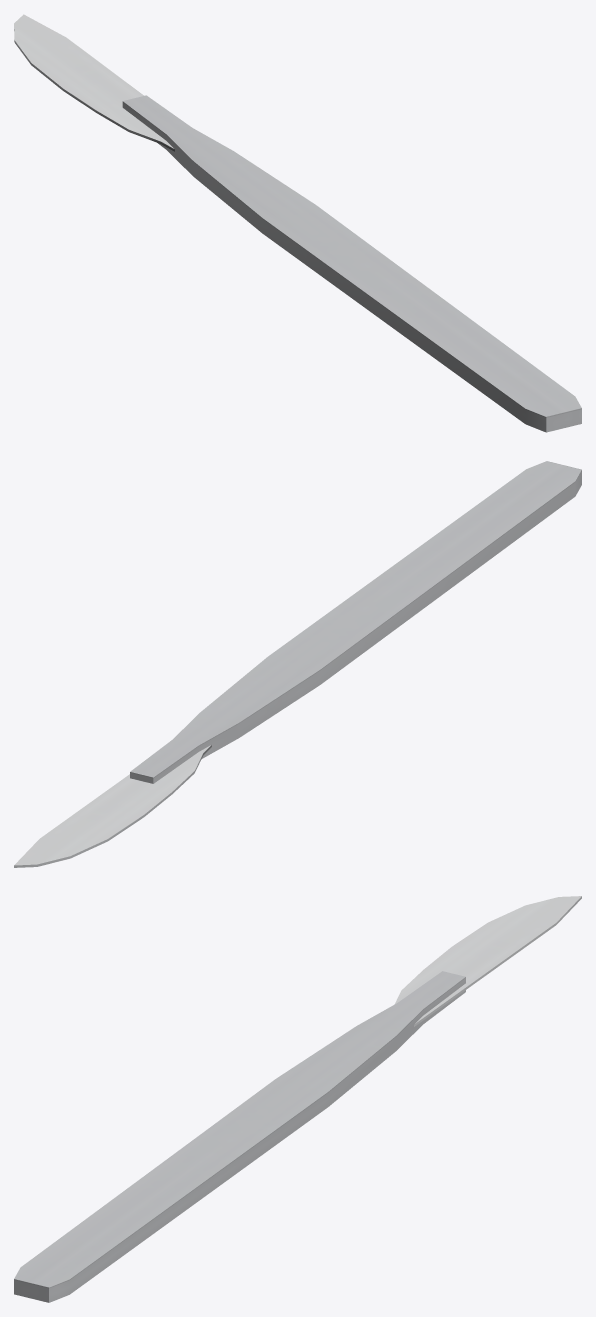
File: scalpel_10.glb
3 views of the same model, one above another, from view 1: azimuth 30°, elevation 25°; view 2: azimuth 150°, elevation 25°; view 3: azimuth 330°, elevation 25° (orthographic).
Parts seen in each view (by area): view 1: s1_scalpel_10; view 2: s1_scalpel_10; view 3: s1_scalpel_10.
Boxes of the visible parts, x1,y1,x2,y2 form: s1_scalpel_10: (14, 14, 581, 432); s1_scalpel_10: (14, 461, 581, 867); s1_scalpel_10: (14, 896, 581, 1302).
Size of the model in its own units: 0.0107 by 0.0025 by 0.16.
Materials: 1 (1 with a texture image).
